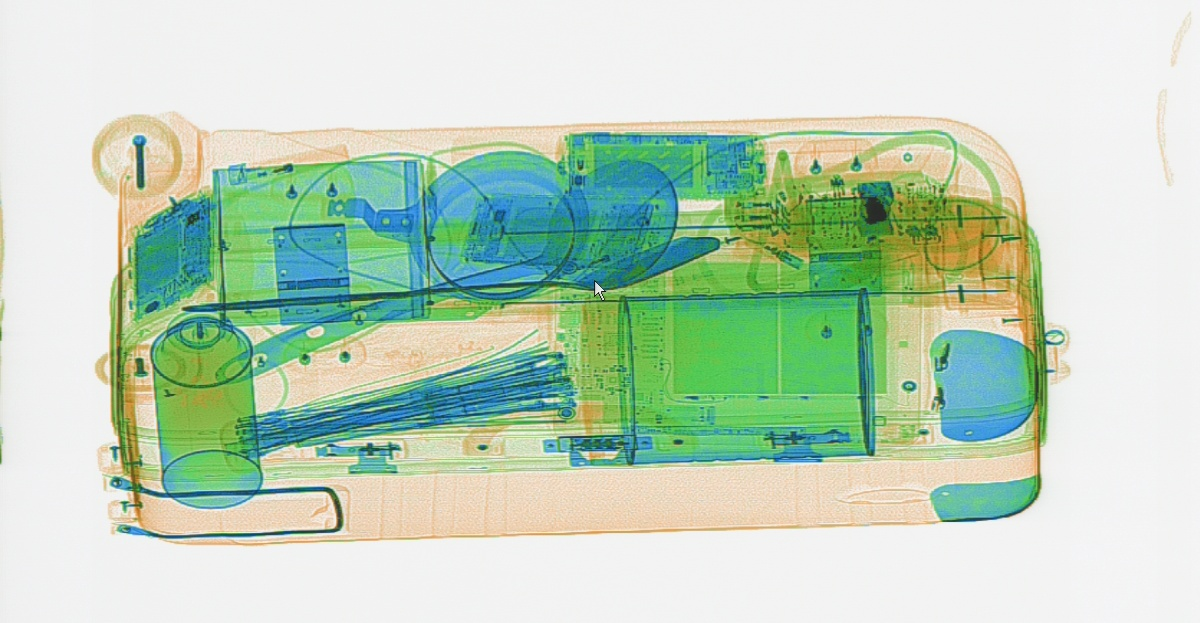knife: (572, 235, 722, 292), (379, 299, 490, 322)
lighter: (224, 138, 353, 185)
pressure: (148, 308, 264, 507)
